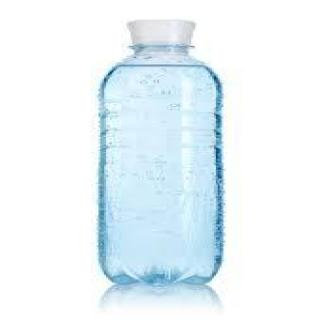Plastic-bottle: (96, 17, 230, 290)
